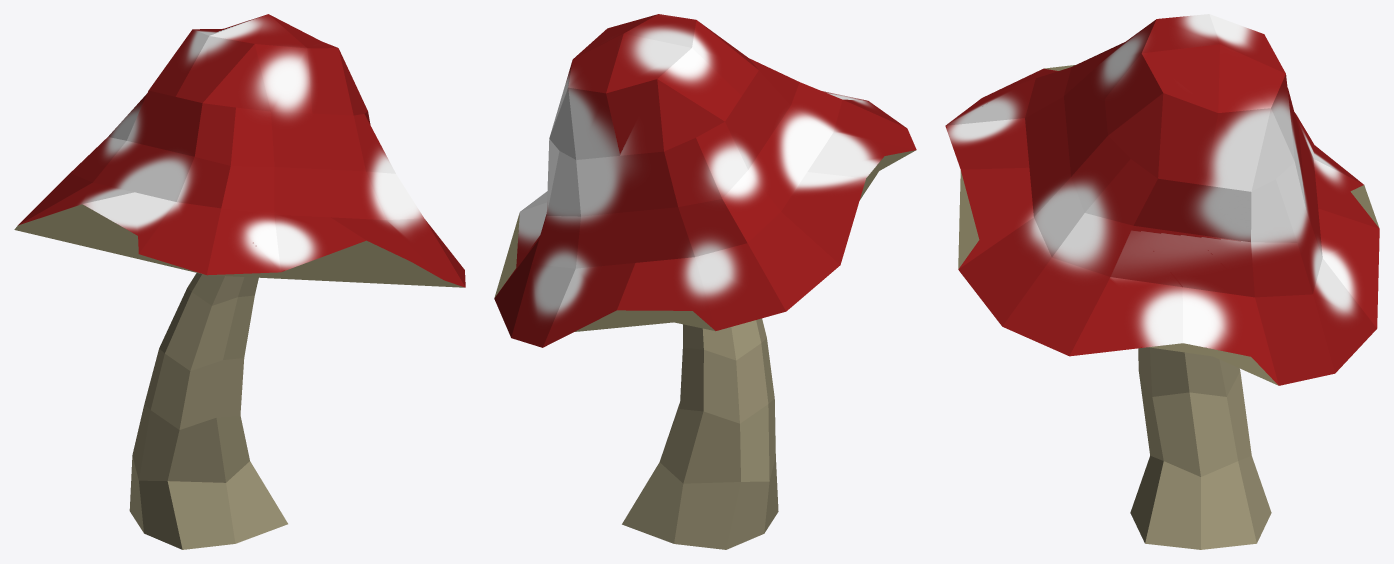
File: Mushroom_Onai.glb
3 renders of one model, left to right at view 1: azimuth 30°, elevation 25°; view 2: azimuth 150°, elevation 25°; view 3: azimuth 270°, elevation 25°, orthographic. The views are drawn at different scales.
Parts seen in each view (by area): view 1: Cube.001, Cube; view 2: Cube.001, Cube; view 3: Cube.001, Cube.
Part boxes in pixels (x1,y1,x2,y2): Cube.001: (14, 14, 465, 287); Cube: (129, 273, 287, 549); Cube.001: (494, 14, 916, 347); Cube: (622, 318, 778, 549); Cube.001: (945, 14, 1379, 385); Cube: (1130, 347, 1271, 549).
Bounding box in the file's own units: 6.22 × 7.97 × 6.15.
Materials: 3 (3 with a texture image).
